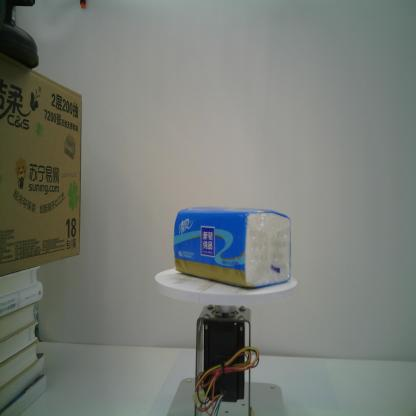Tissue: (173, 205, 293, 289)
